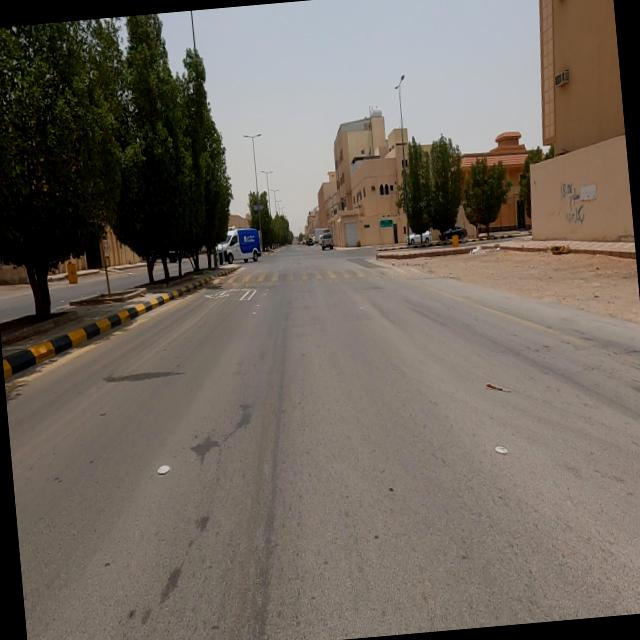Graffiti: (559, 181, 588, 228)
